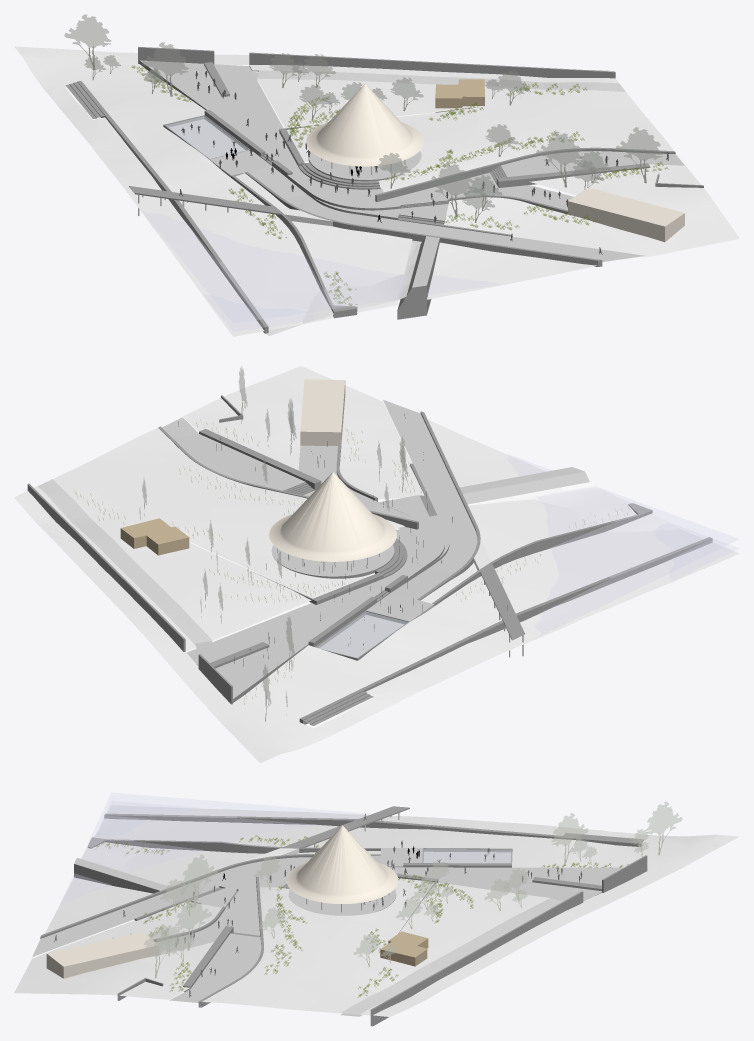
The model's file is plaza 3dviewer_nuevo.glb.
The picture shows the model from 3 angles, top to bottom: view 1: azimuth 30°, elevation 25°; view 2: azimuth 150°, elevation 25°; view 3: azimuth 270°, elevation 25°; orthographic projection. The views are drawn at different scales.
Visible parts, largest first — view 1: 3DGeom-3550, 3DGeom-3554, 3DGeom-3553, 3DGeom-3551, 3DGeom-3454, 3DGeom-942 (×5), 3DGeom-3440, 3DGeom-3457, 3DGeom-3556, 3DGeom-3552, 3DGeom-3549, 3DGeom-3548 (+1 smaller); view 2: 3DGeom-3550, 3DGeom-3554, 3DGeom-3553, 3DGeom-3551, 3DGeom-3454, 3DGeom-3457, 3DGeom-3556, 3DGeom-3440, 3DGeom-3549, 3DGeom-3552, 3DGeom-3548, 3DGeom-3555; view 3: 3DGeom-3550, 3DGeom-3554, 3DGeom-3553, 3DGeom-3551, 3DGeom-3454, 3DGeom-942 (×5), 3DGeom-3440, 3DGeom-3457, 3DGeom-3552, 3DGeom-3556, 3DGeom-3549, 3DGeom-3548 (+1 smaller).
Boxes of the visible parts, box(x1,y1,x2,y2) form: 3DGeom-3550: box(14, 46, 739, 336); 3DGeom-3554: box(140, 60, 684, 310); 3DGeom-3553: box(65, 46, 703, 333); 3DGeom-3551: box(140, 209, 499, 323); 3DGeom-3454: box(306, 83, 423, 166); 3DGeom-942 (×5): box(64, 14, 662, 203); 3DGeom-3440: box(568, 187, 684, 242); 3DGeom-3457: box(257, 70, 625, 91); 3DGeom-3556: box(266, 240, 421, 335); 3DGeom-3552: box(203, 294, 319, 331); 3DGeom-3549: box(165, 116, 248, 158); 3DGeom-3548: box(435, 79, 484, 112); 3DGeom-3550: box(14, 366, 739, 763); 3DGeom-3554: box(162, 400, 589, 698); 3DGeom-3553: box(27, 395, 712, 725); 3DGeom-3551: box(508, 454, 738, 637); 3DGeom-3454: box(269, 472, 396, 561); 3DGeom-3457: box(38, 479, 212, 643); 3DGeom-3556: box(467, 482, 679, 531); 3DGeom-3440: box(300, 379, 345, 445); 3DGeom-3549: box(316, 611, 407, 657); 3DGeom-3552: box(655, 523, 739, 580); 3DGeom-3548: box(120, 518, 189, 555); 3DGeom-3555: box(366, 593, 434, 621); 3DGeom-3550: box(14, 805, 739, 1016); 3DGeom-3554: box(32, 851, 622, 1016); 3DGeom-3553: box(40, 806, 647, 1026); 3DGeom-3551: box(60, 792, 369, 903); 3DGeom-3454: box(286, 825, 398, 903); 3DGeom-942 (×5): box(142, 801, 682, 972); 3DGeom-3440: box(46, 932, 159, 978); 3DGeom-3457: box(340, 898, 562, 1014); 3DGeom-3552: box(96, 801, 197, 835); 3DGeom-3556: box(81, 832, 172, 886); 3DGeom-3549: box(423, 849, 511, 863); 3DGeom-3548: box(380, 931, 428, 966).
Bounding box in the file's own units: 128 × 25.47 × 162.
